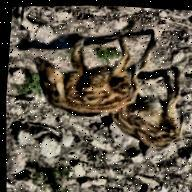boar: (19, 21, 159, 131), (99, 68, 191, 167)
